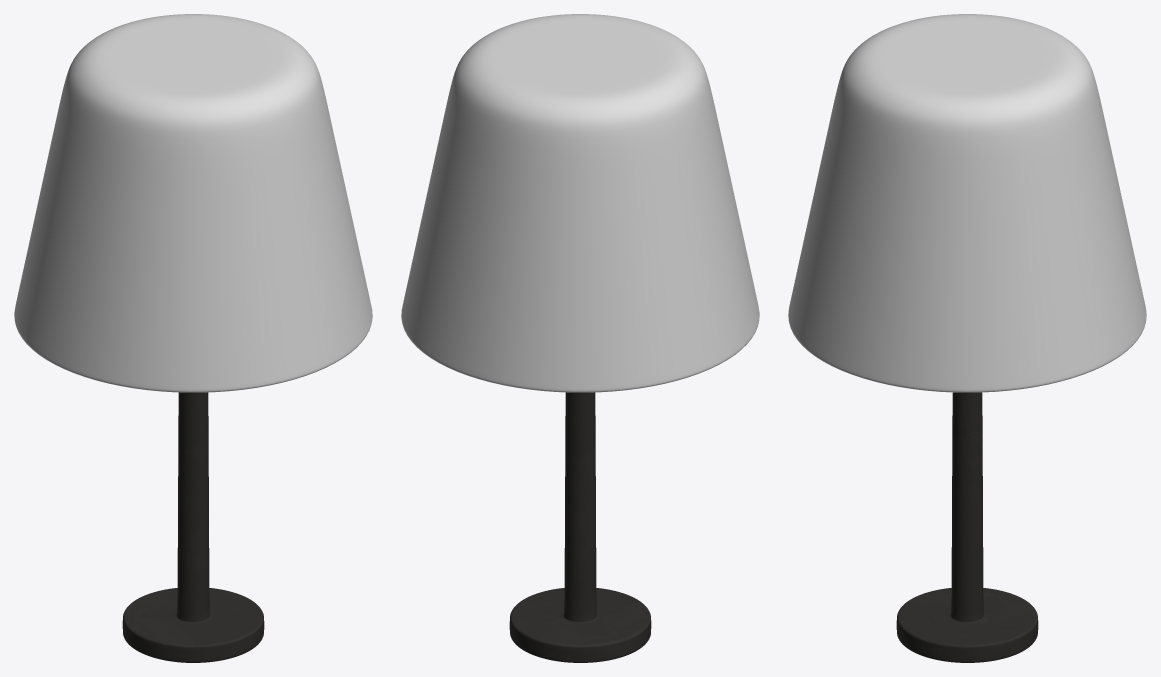
The model's file is A_X_LAMP_.fbx.
The picture shows the model from 3 angles, left to right: view 1: azimuth 30°, elevation 25°; view 2: azimuth 150°, elevation 25°; view 3: azimuth 270°, elevation 25°; orthographic projection.
Parts seen in each view (by area): view 1: X_LAMP*; view 2: X_LAMP*; view 3: X_LAMP*.
Part boxes in pixels (<box>): X_LAMP*: <box>14,14,372,662</box>; X_LAMP*: <box>401,14,759,662</box>; X_LAMP*: <box>788,14,1146,662</box>.
Size of the model in its own units: 55.91 by 99.42 by 55.91.
